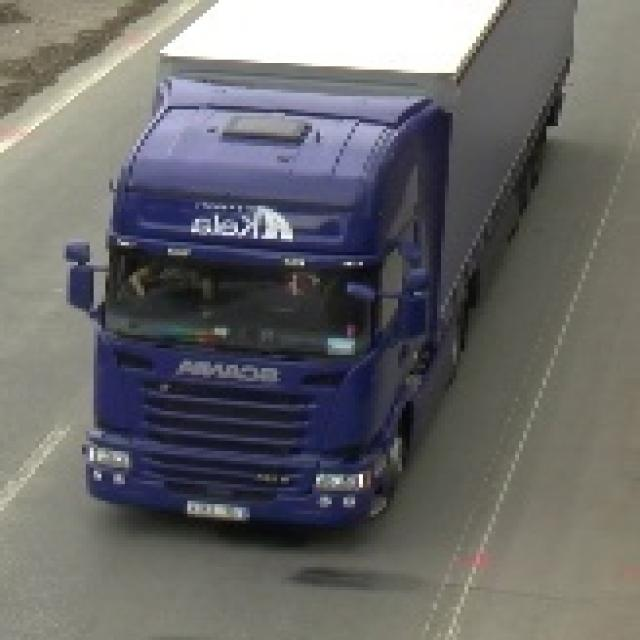TRUCK: (78, 0, 584, 532)
